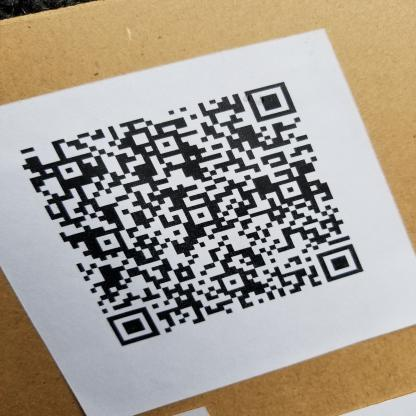qr: (13, 77, 371, 349)
